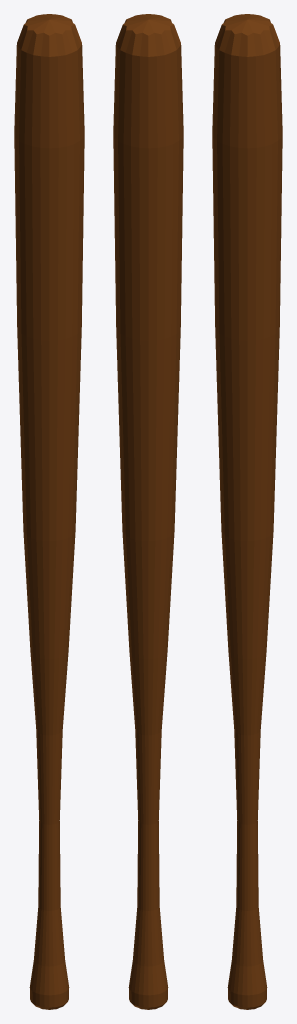
The model's file is BaseballBat.fbx.
3 views of the same model, side by side, from view 1: azimuth 90°, elevation 25°; view 2: azimuth 150°, elevation 25°; view 3: azimuth 330°, elevation 25° (orthographic).
Visible parts, largest first — view 1: Cylinder; view 2: Cylinder; view 3: Cylinder.
Boxes of the visible parts, bbox=[...] form: Cylinder: bbox=[14, 14, 84, 1009]; Cylinder: bbox=[113, 14, 183, 1009]; Cylinder: bbox=[212, 14, 282, 1009].
Bounding box in the file's own units: 5.56 × 85.87 × 5.56.
